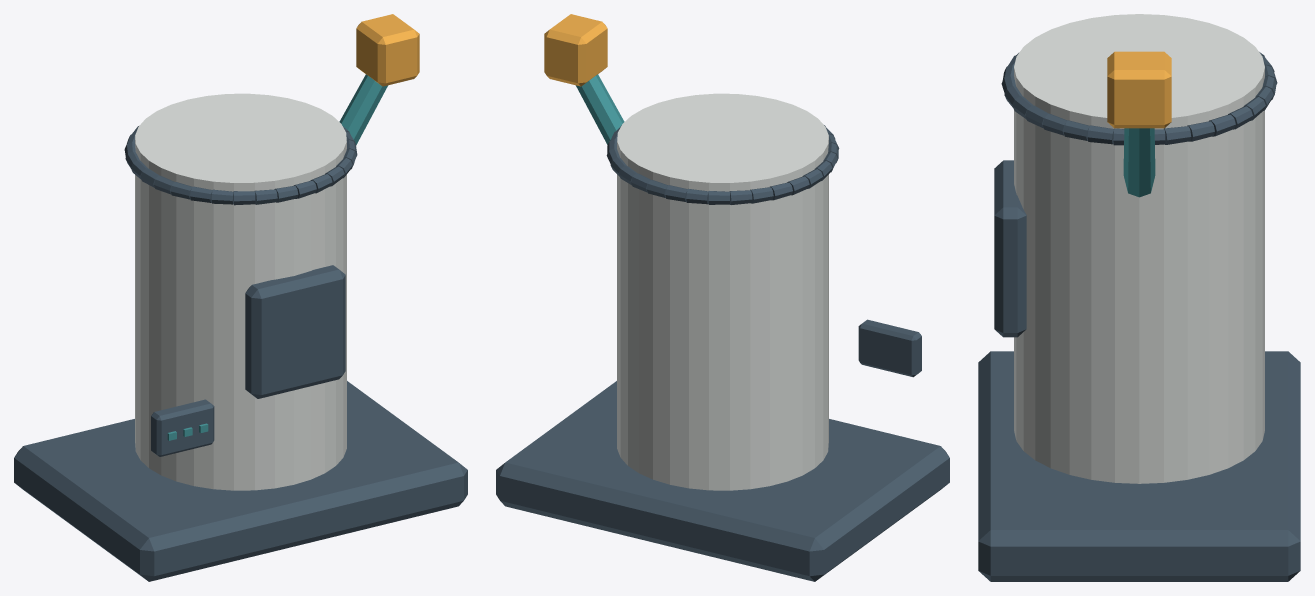
3 renders of one model, left to right at view 1: azimuth 30°, elevation 25°; view 2: azimuth 150°, elevation 25°; view 3: azimuth 270°, elevation 25°, orthographic. The views are drawn at different scales.
Visible parts, largest first — view 1: ME-028 Regolith oxygen-extraction furnace concept batched; view 2: ME-028 Regolith oxygen-extraction furnace concept batched; view 3: ME-028 Regolith oxygen-extraction furnace concept batched.
Boxes of the visible parts, x1=… form: ME-028 Regolith oxygen-extraction furnace concept batched: x1=14, y1=14, x2=467, y2=581; ME-028 Regolith oxygen-extraction furnace concept batched: x1=496, y1=14, x2=949, y2=581; ME-028 Regolith oxygen-extraction furnace concept batched: x1=978, y1=14, x2=1300, y2=581.
Bounding box in the file's own units: 1.26 × 1.59 × 0.9.
